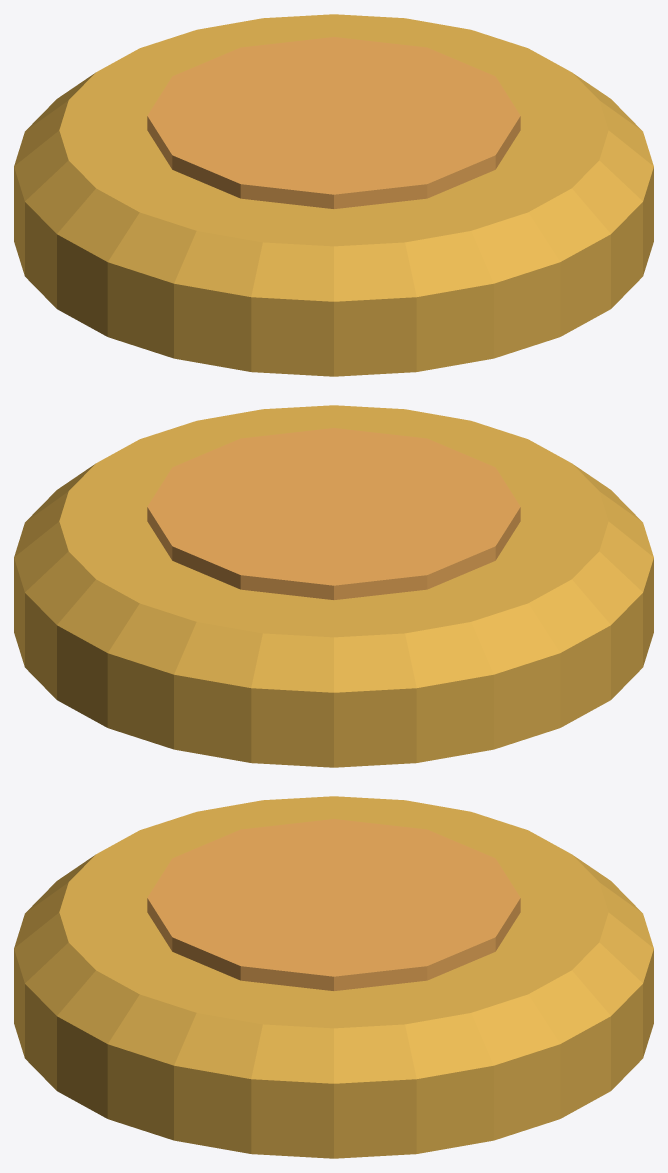
File: SM_Pinball_Coin.fbx
3 views of the same model, one above another, from view 1: azimuth 30°, elevation 25°; view 2: azimuth 150°, elevation 25°; view 3: azimuth 270°, elevation 25° (orthographic).
Parts seen in each view (by area): view 1: SM_Pinball_Coin; view 2: SM_Pinball_Coin; view 3: SM_Pinball_Coin.
Boxes of the visible parts, x1,y1,x2,y2 form: SM_Pinball_Coin: (14,14,653,376); SM_Pinball_Coin: (14,405,653,767); SM_Pinball_Coin: (14,796,653,1158).
Size of the model in its own units: 24 by 24 by 5.9.
